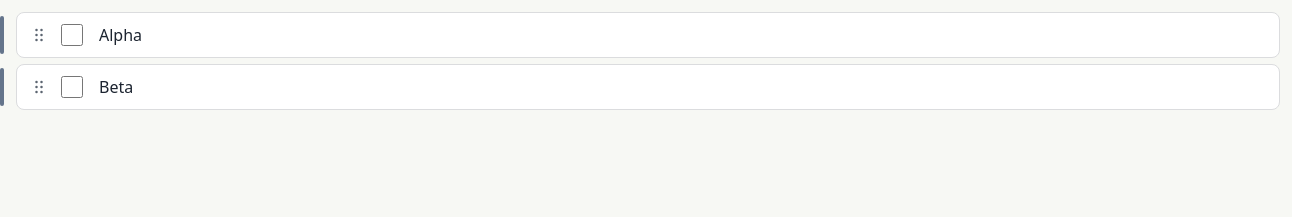
Test: TodoTree › only one item shows actions at a time
Click the button with aria-label "Show details for Alpha" at coordinates (121, 35), box [91,13,1279,57]
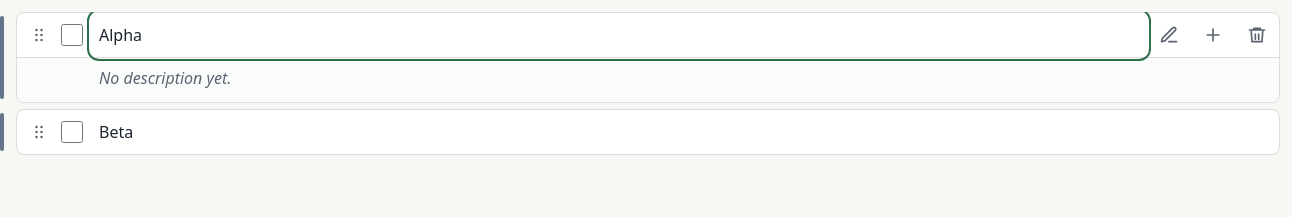
Click the button with aria-label "Show details for Beta" at coordinates (116, 132), box [91,110,1279,154]
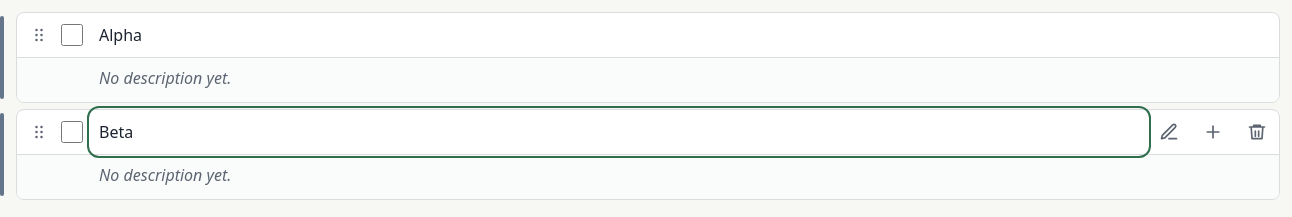
Result: the button with aria-label "details for alpha" is expanded at [91,13,1279,57]
Result: the button named "Edit Beta" is shown at [1147,110,1191,154]
